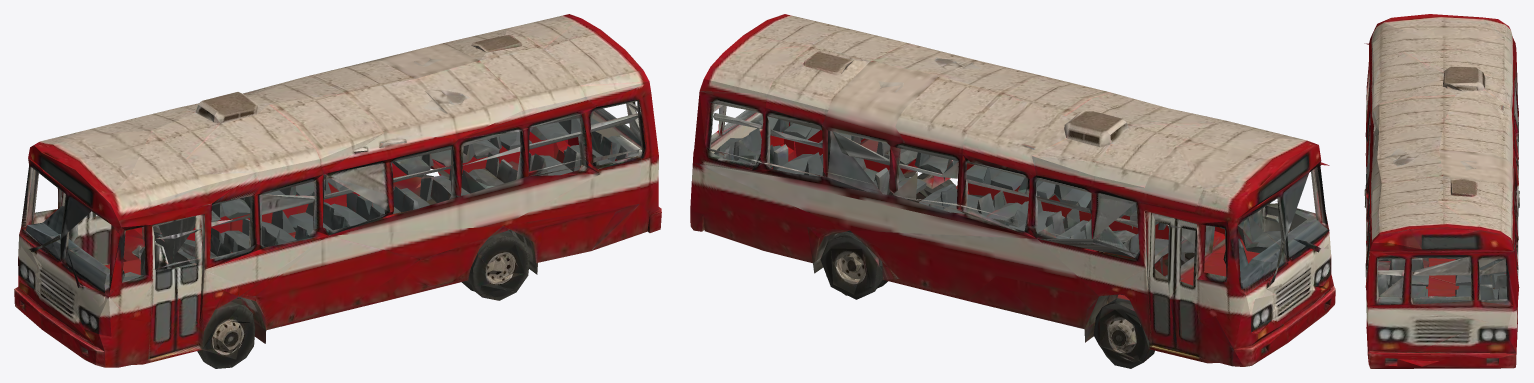
File: bus.glb
3 views of the same model, side by side, from view 1: azimuth 30°, elevation 25°; view 2: azimuth 150°, elevation 25°; view 3: azimuth 270°, elevation 25° (orthographic). The views are drawn at different scales.
Size of the model in its own units: 1.9 by 0.6784 by 0.5524.
Materials: 1 (1 with a texture image).
